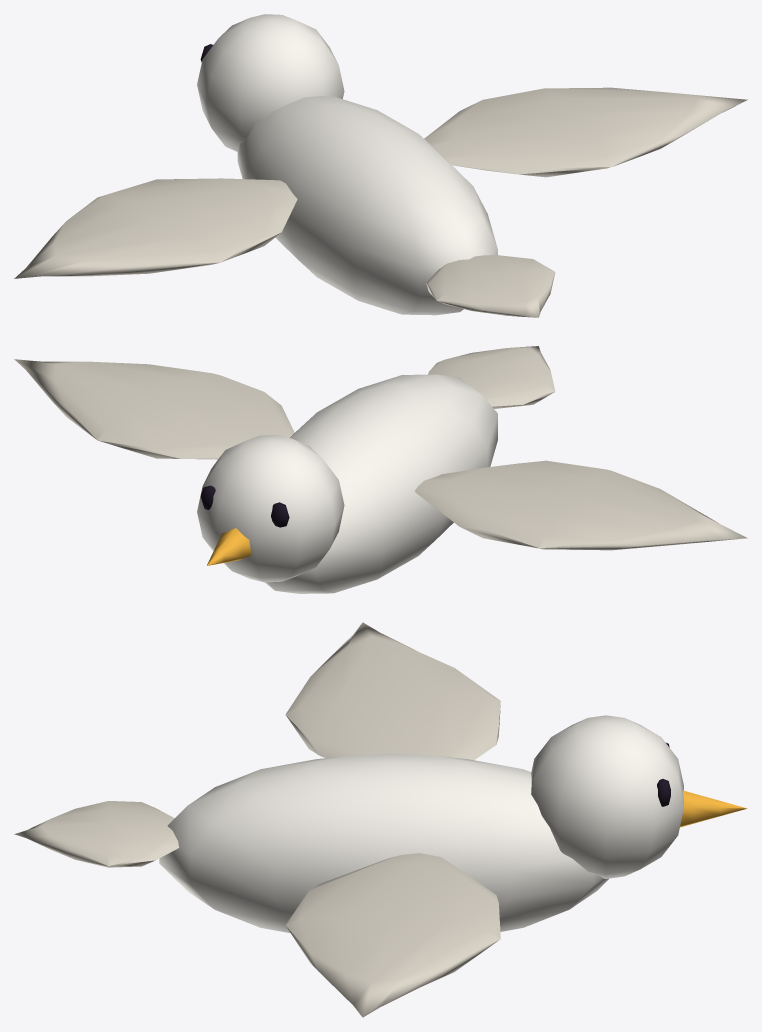
File: Bird.glb
3 renders of one model, top to bottom at view 1: azimuth 30°, elevation 25°; view 2: azimuth 150°, elevation 25°; view 3: azimuth 270°, elevation 25°, orthographic. The views are drawn at different scales.
Parts seen in each view (by area): view 1: Body, WingL, WingR; view 2: Body, WingL, WingR; view 3: Body, WingR, WingL.
Boxes of the visible parts, box(x1,y1,x2,y2) form: Body: box(197, 14, 555, 317); WingL: box(14, 178, 297, 278); WingR: box(424, 87, 747, 177); Body: box(197, 346, 555, 593); WingL: box(414, 460, 747, 550); WingR: box(14, 359, 294, 459); Body: box(14, 715, 747, 933); WingR: box(285, 853, 500, 1017); WingL: box(285, 622, 500, 760).
Size of the model in its own units: 2.97 by 0.74 by 2.33.
3 materials, 3 textured.
